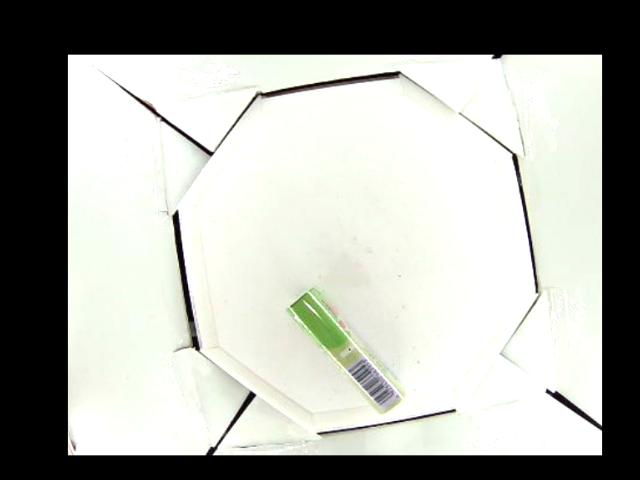Bottle: (284, 284, 410, 414)
